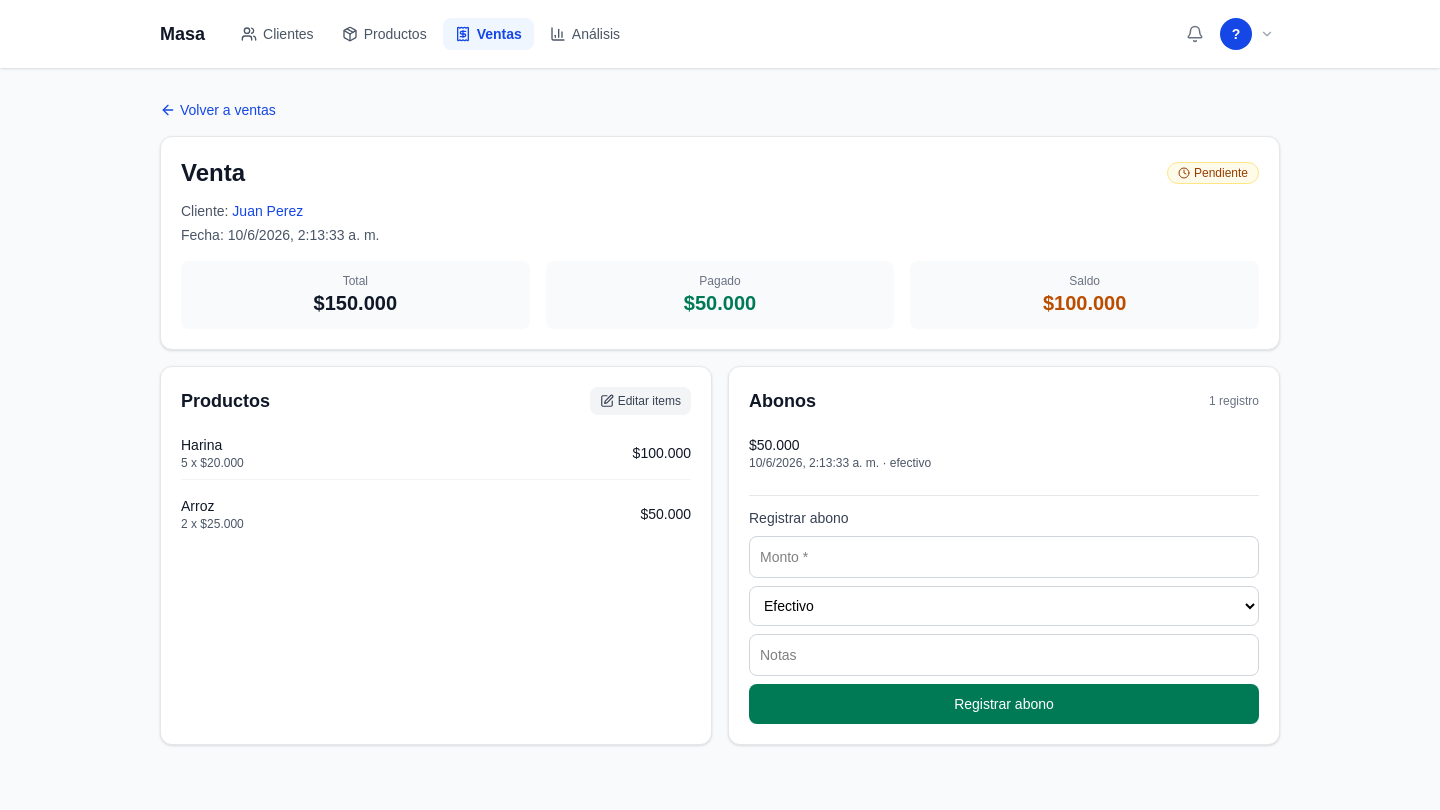
it: VentaDetallePage — edit mode › reverts all local changes on cancel
Expected: the link "Juan Perez" is shown, [232,203,303,219]
Click the button "Editar items": x=640, y=401 [590,387,691,415]
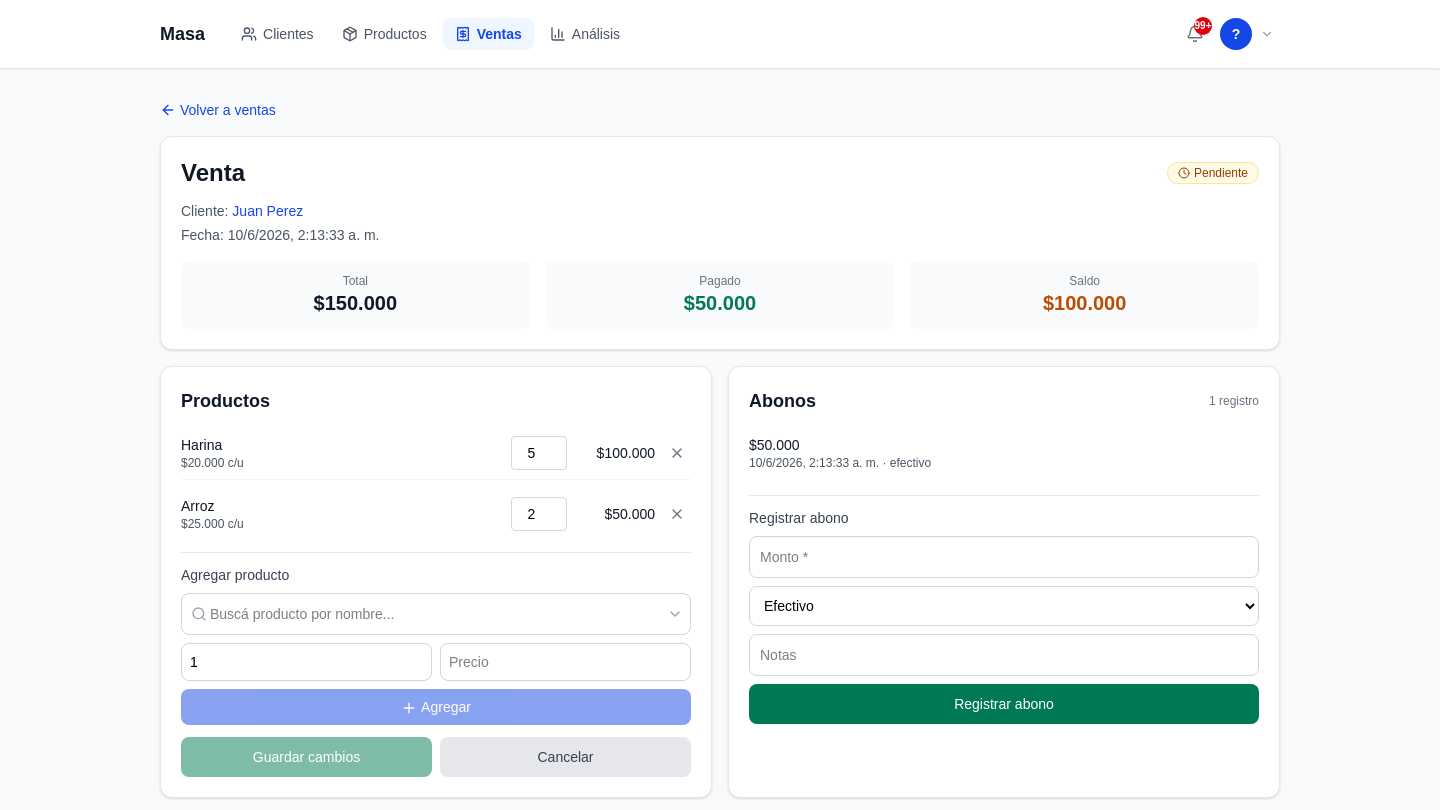
Expected: the button "Guardar cambios" is shown, [181,737,432,777]
Replace the text in the number field showing "5" in the row of "$20.000" with "3": x=539, y=453 [511,436,567,470]
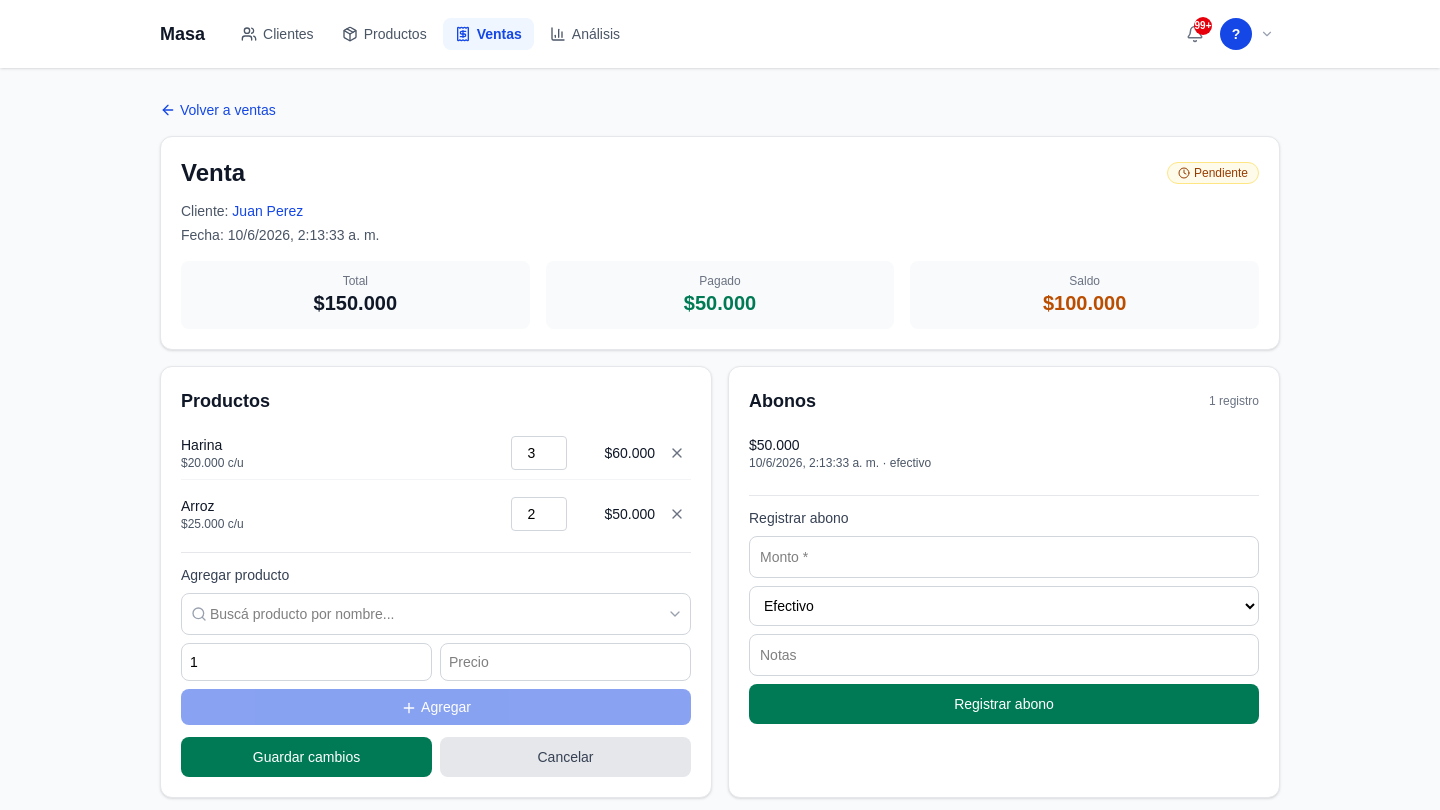
Click the button "Cancelar": x=566, y=757 [440,737,691,777]
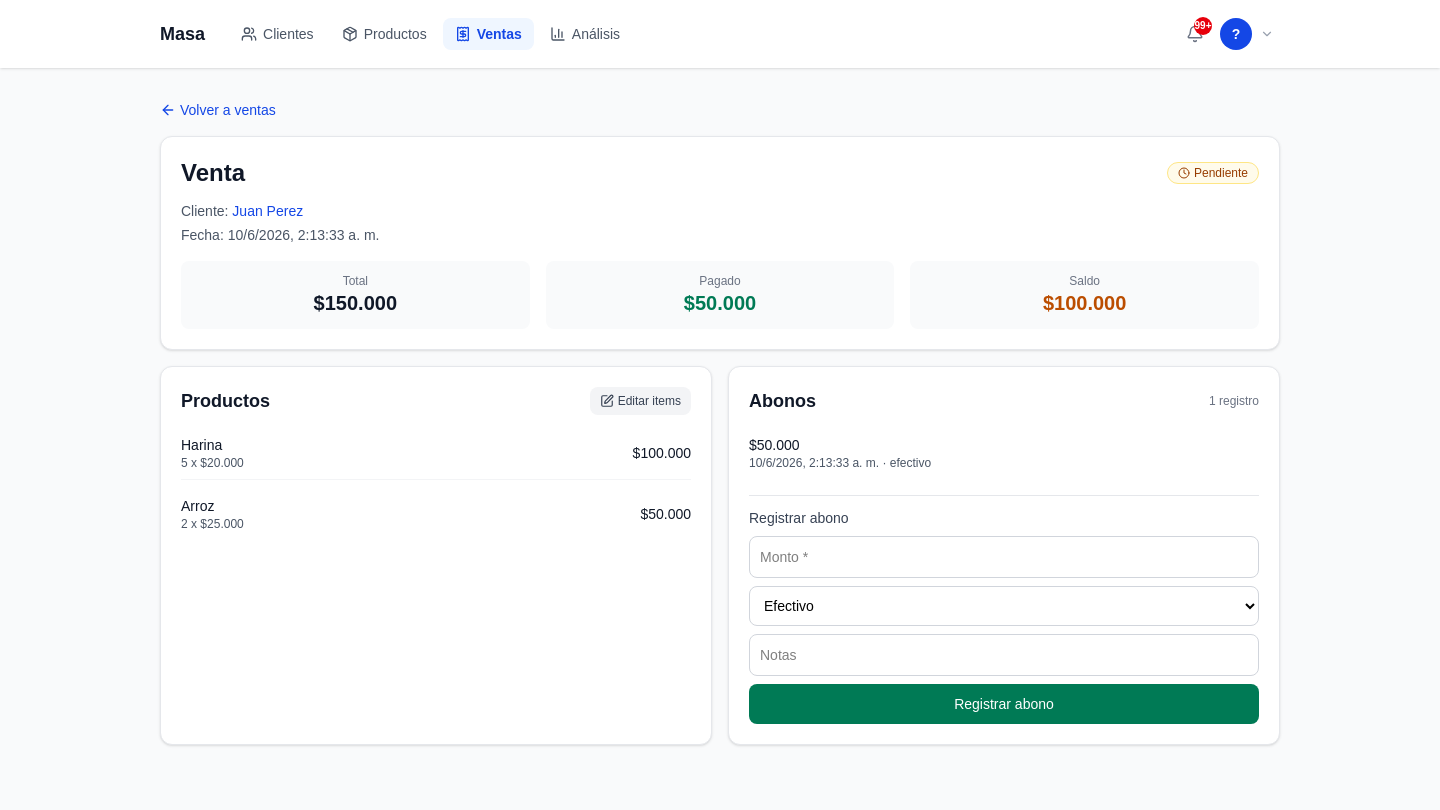
Expected: the button "Guardar cambios" is gone
Expected: the button "Editar items" is shown, [590,387,691,415]
